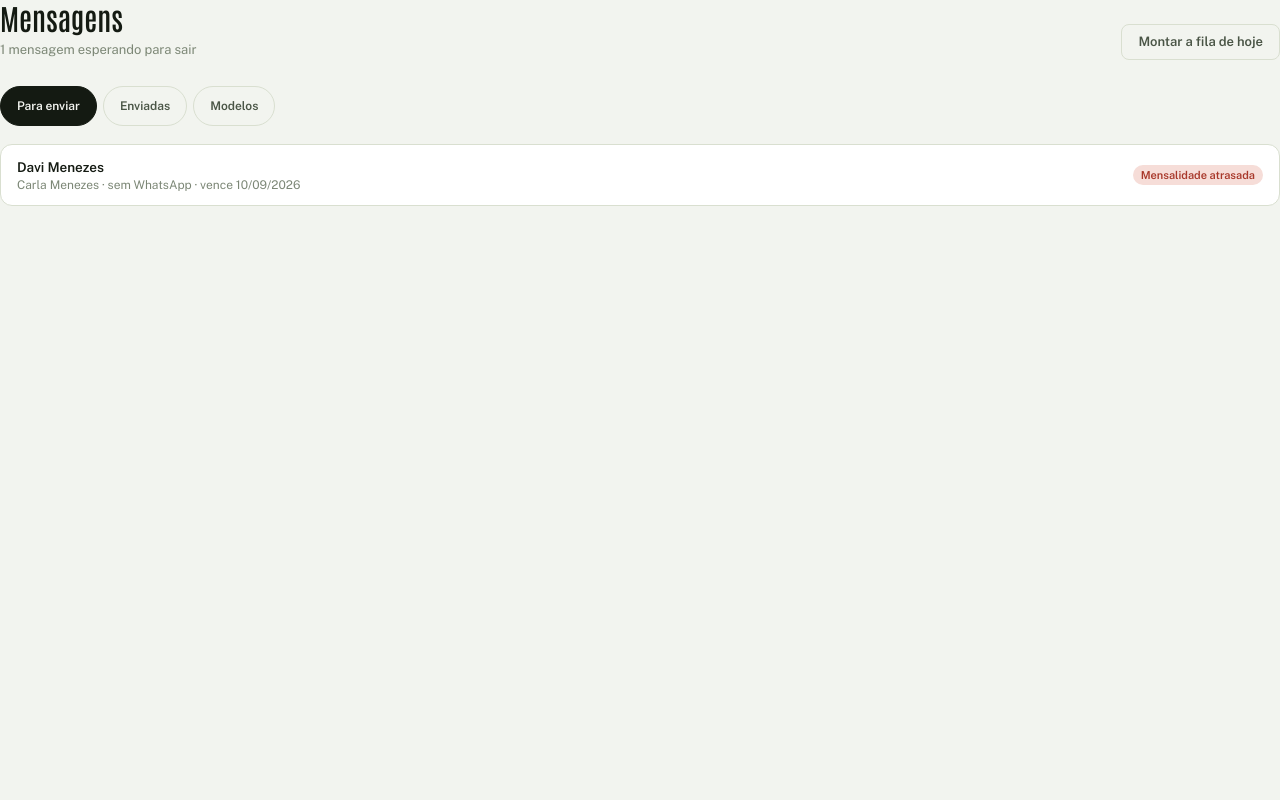
tela de mensagens › sem WhatsApp cadastrado, avisa em vez de abrir nada
The image size is (1280, 800).
What coordinates should you click on to do the following:
click the text "Davi Menezes"
I would click on:
 (60, 167)
Its box is 17,159 -> 104,175.
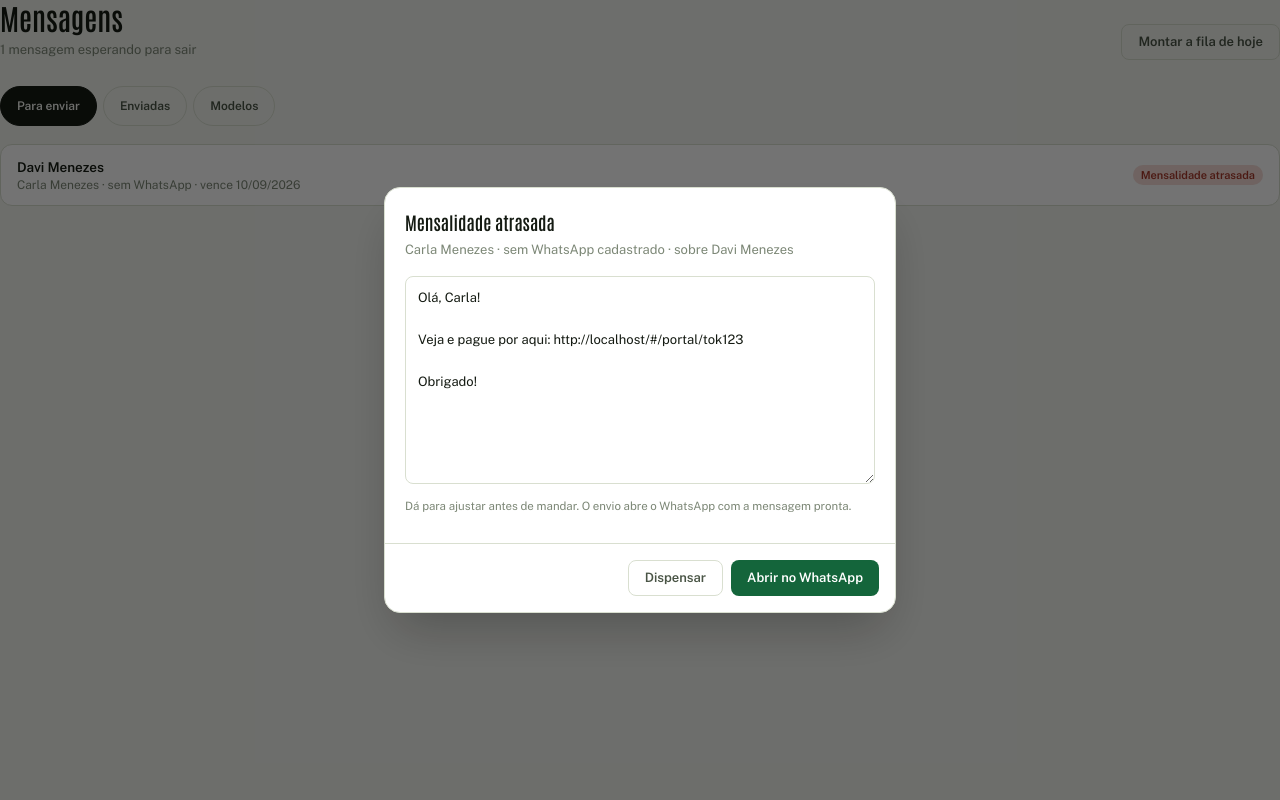
What coordinates should you click on to do the following:
click the button "Abrir no WhatsApp"
I would click on:
 (805, 578)
Its box is 731,560 -> 879,596.
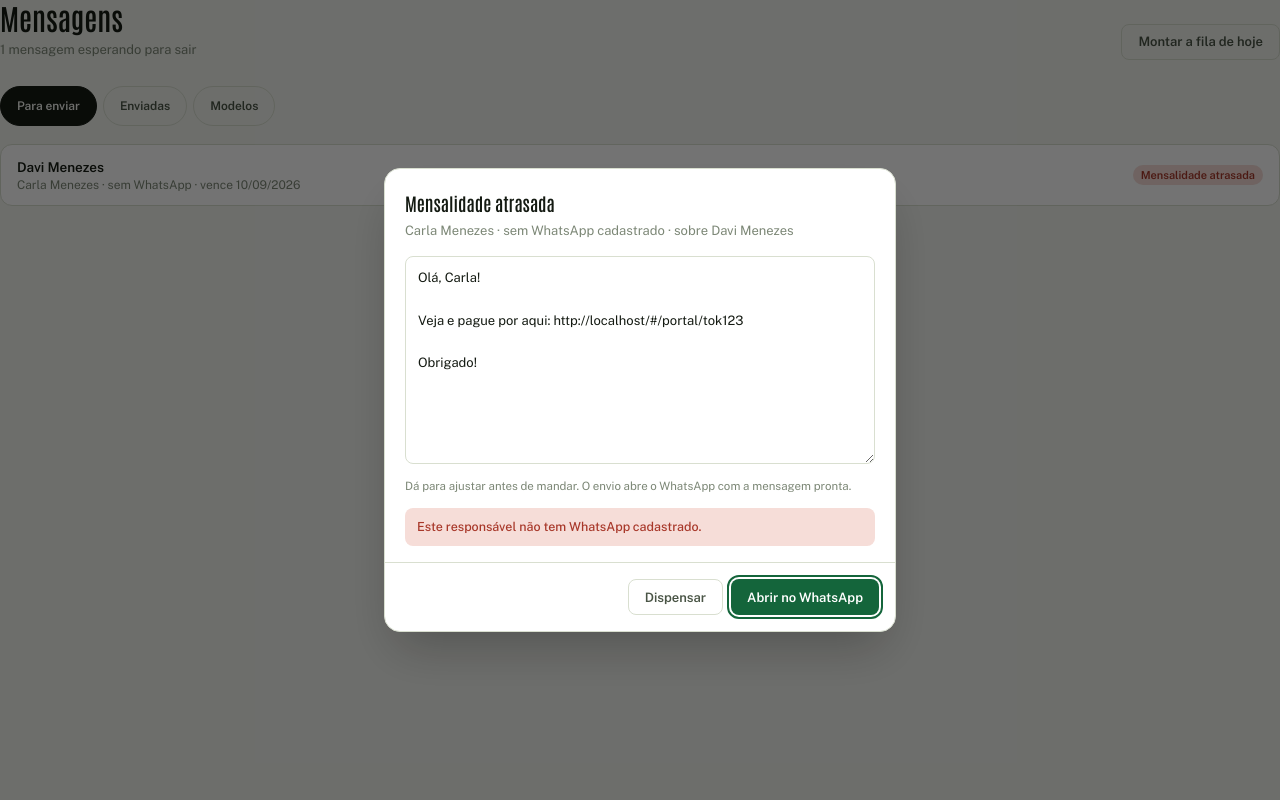
Expected: the message shows "não tem WhatsApp", 417,518 -> 702,534
